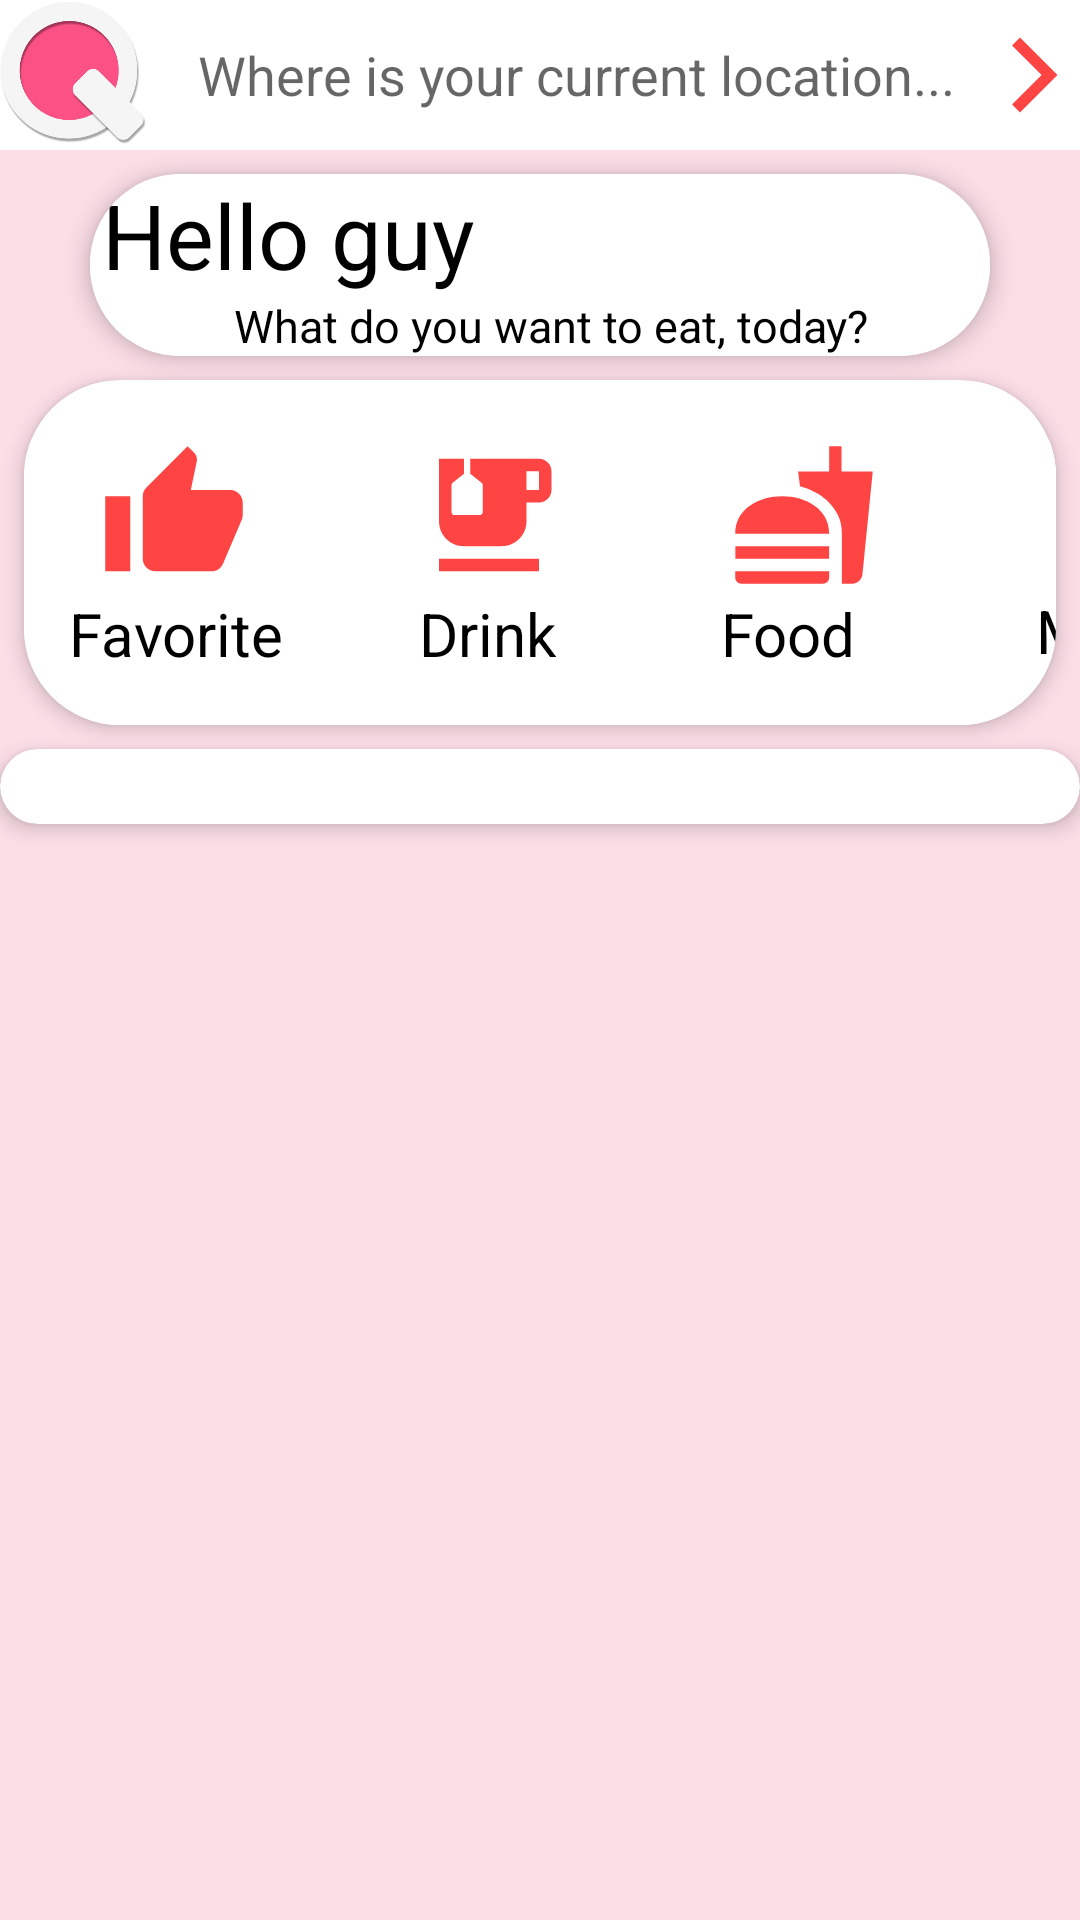

Where icons sit on this 1080x1920 app screen, as (x1,y1,x2,y2):
arrow forward: (1012,38,1057,112)
like: (105,446,243,572)
